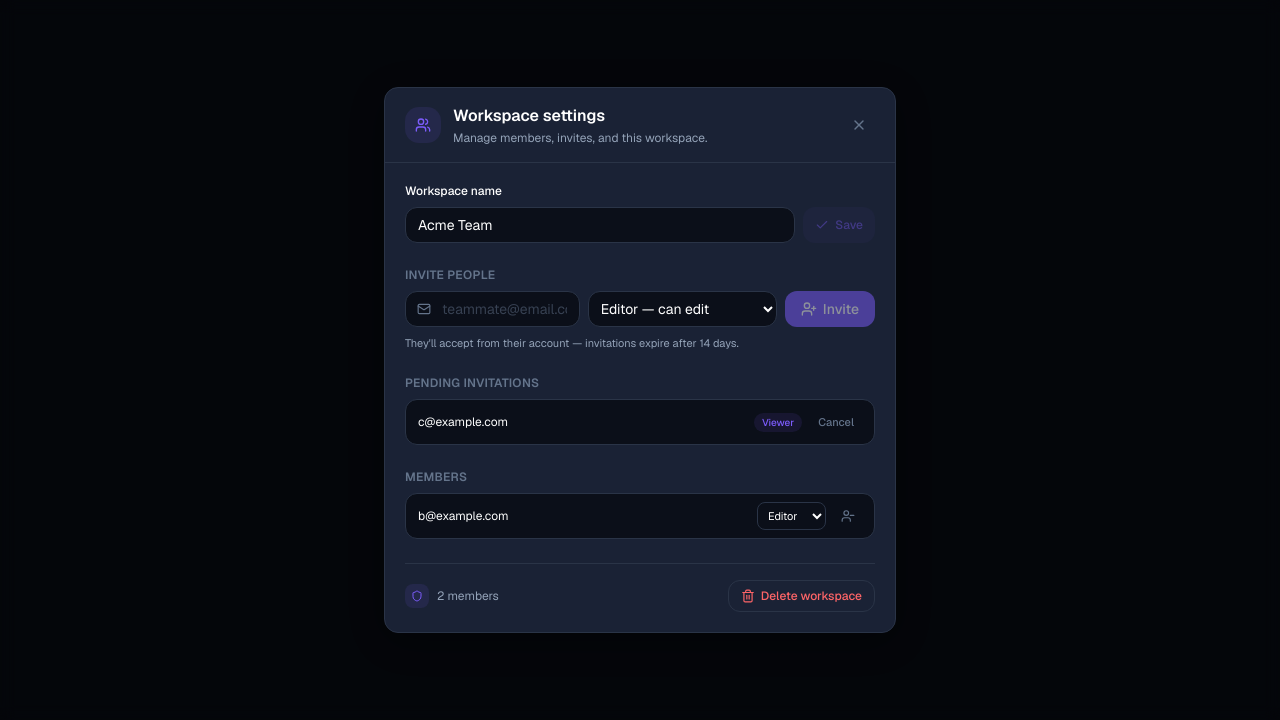
Scenario: WorkspaceSettingsDialog › revokes a pending invitation
Expected: the list item with test id "workspace-pending-invite" is shown, [405,399,875,445]
Click the button with test id "workspace-revoke-invite-inv-1" at point(836, 422), box [810,408,862,436]
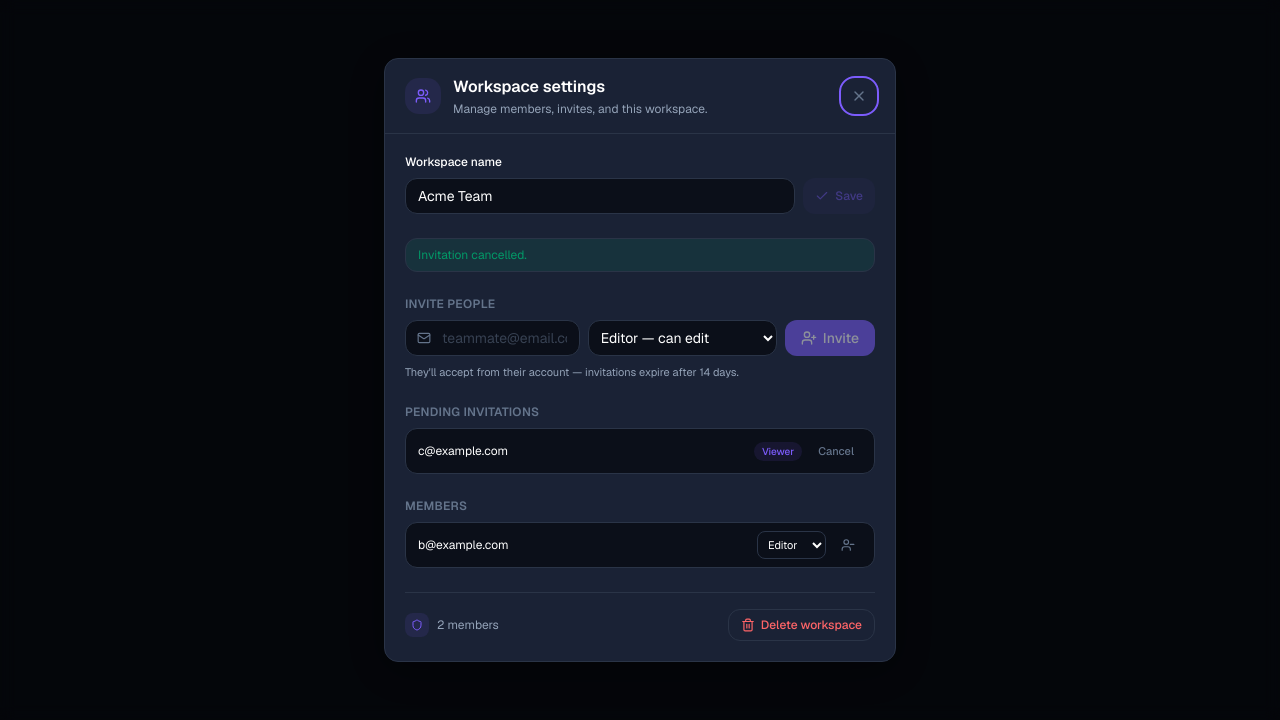
Now the text "Invitation cancelled." is shown, box [405,238,875,272]
